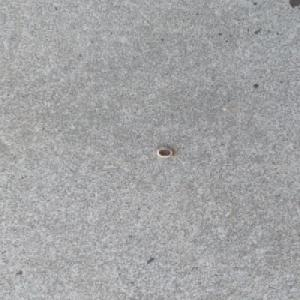Nut: (155, 146, 174, 158)
